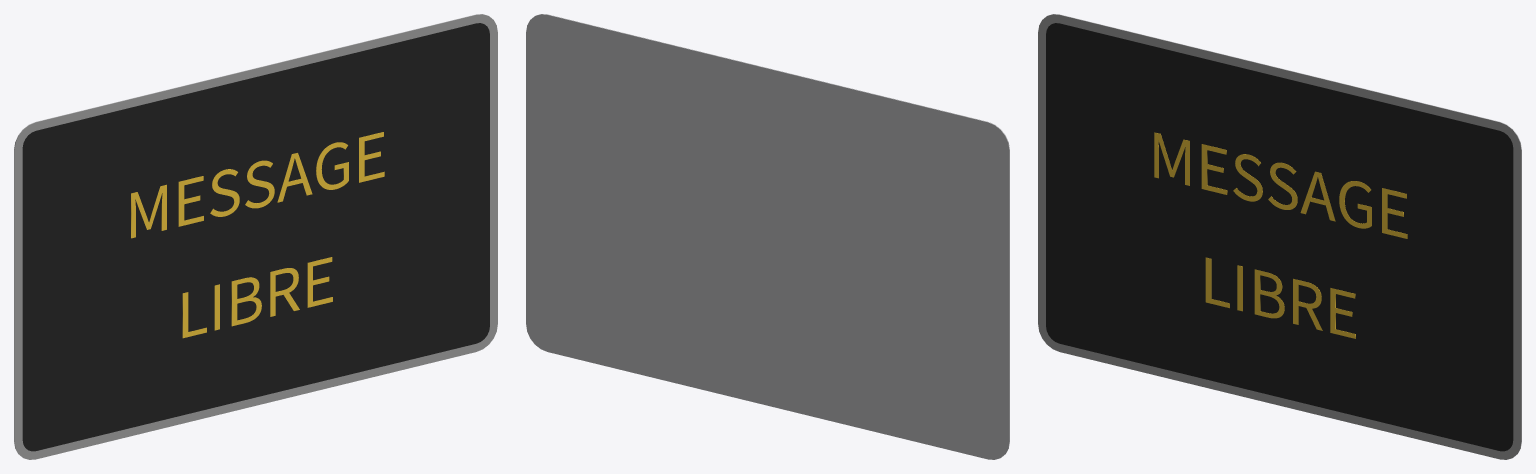
File: KXC50.glb
3 views of the same model, side by side, from view 1: azimuth 30°, elevation 25°; view 2: azimuth 150°, elevation 25°; view 3: azimuth 330°, elevation 25° (orthographic).
Visible parts, largest first — view 1: KXC50_r01, KXC50_r00, KXC50_txt02, KXC50_txt03, KXC50_dos; view 2: KXC50_dos, KXC50_r00; view 3: KXC50_r01, KXC50_r00, KXC50_txt02, KXC50_txt03, KXC50_dos.
Part boxes in pixels (<box>): KXC50_r01: <box>22,23,489,451</box>; KXC50_r00: <box>14,14,497,459</box>; KXC50_txt02: <box>131,132,384,238</box>; KXC50_txt03: <box>182,257,332,338</box>; KXC50_dos: <box>14,14,487,452</box>; KXC50_dos: <box>526,14,1009,459</box>; KXC50_r00: <box>542,14,1009,448</box>; KXC50_r01: <box>1046,23,1513,451</box>; KXC50_r00: <box>1038,14,1521,459</box>; KXC50_txt02: <box>1154,132,1407,238</box>; KXC50_txt03: <box>1205,257,1355,338</box>; KXC50_dos: <box>1048,14,1521,452</box>.
Bounding box in the file's own units: 0.9 × 0.6 × 0.0029.
